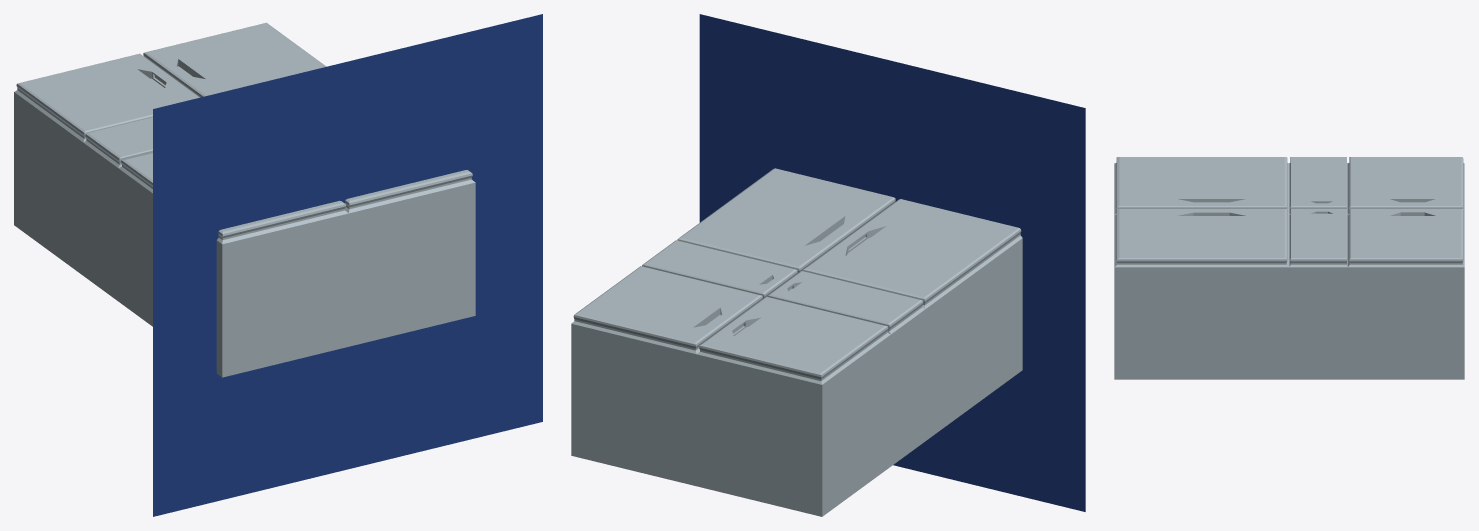
The model's file is LoungeRoom_fridge.fbx.
The picture shows the model from 3 angles, left to right: view 1: azimuth 30°, elevation 25°; view 2: azimuth 150°, elevation 25°; view 3: azimuth 270°, elevation 25°; orthographic projection. The views are drawn at different scales.
Visible parts, largest first — view 1: Plane.001, Cube.1809; view 2: Cube.1809, Plane.001; view 3: Cube.1809.
Part boxes in pixels (x1,y1,x2,y2): Plane.001: (153,14,542,516); Cube.1809: (14,22,475,377); Cube.1809: (571,168,1022,516); Plane.001: (699,14,1085,511); Cube.1809: (1114,157,1464,379).
Size of the model in its own units: 2 by 2 by 1.85.
